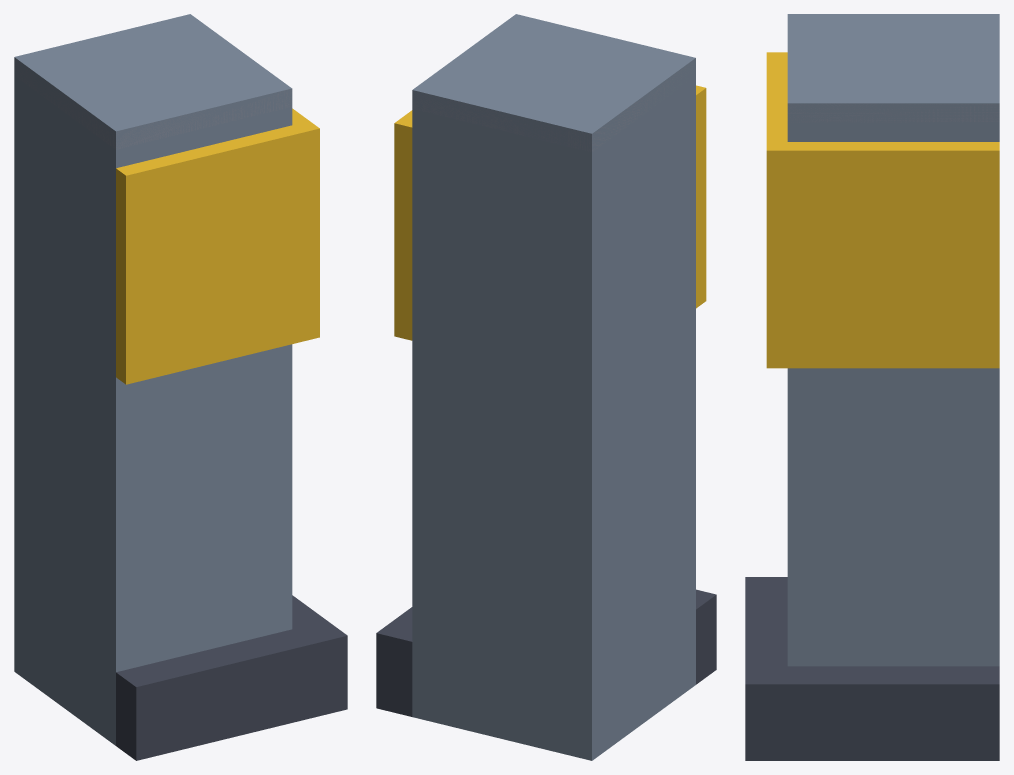
Rendered from wall-corner.glb.
3 renders of one model, left to right at view 1: azimuth 30°, elevation 25°; view 2: azimuth 150°, elevation 25°; view 3: azimuth 270°, elevation 25°, orthographic. The views are drawn at different scales.
Parts seen in each view (by area): view 1: wall-corner; view 2: wall-corner; view 3: wall-corner.
Boxes of the visible parts, bbox=[...] form: wall-corner: bbox=[14, 14, 347, 760]; wall-corner: bbox=[376, 14, 716, 760]; wall-corner: bbox=[745, 14, 999, 760].
Size of the model in its own units: 0.18 by 0.5 by 0.18.
Materials: 1 (1 with a texture image).
